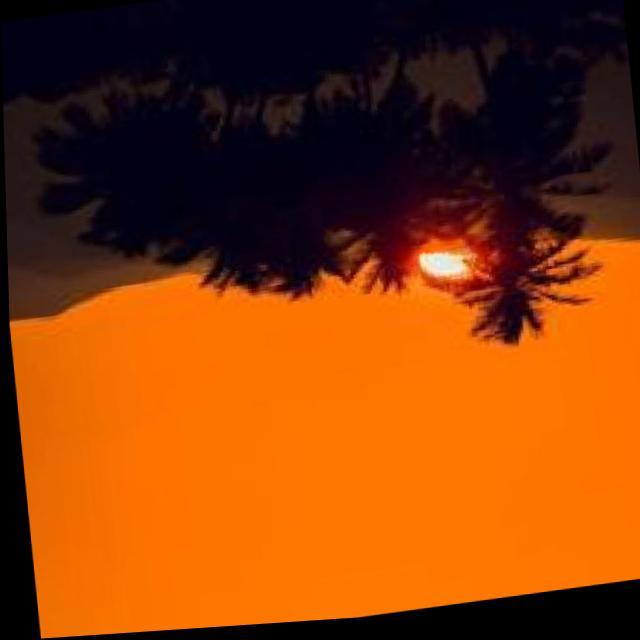sun: (417, 258, 471, 283)
